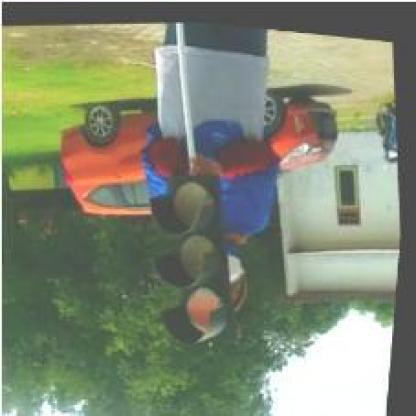red: (146, 162, 250, 344)
